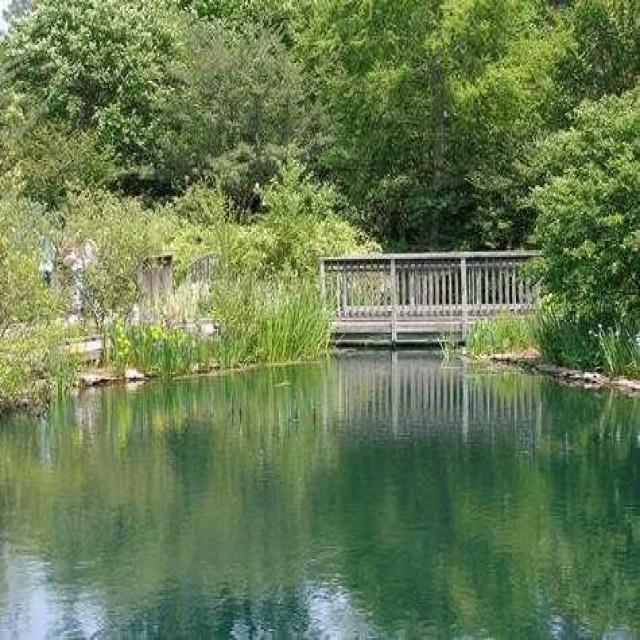Ponds: (5, 354, 640, 636)
